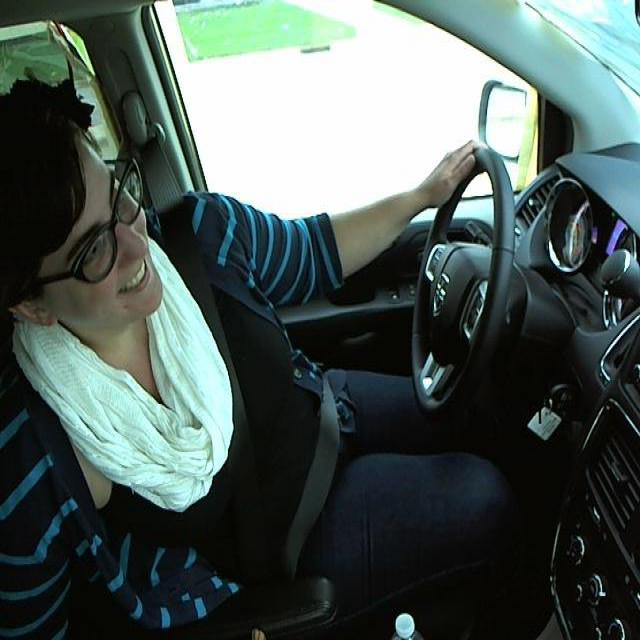seatbelt: (174, 250, 342, 566)
